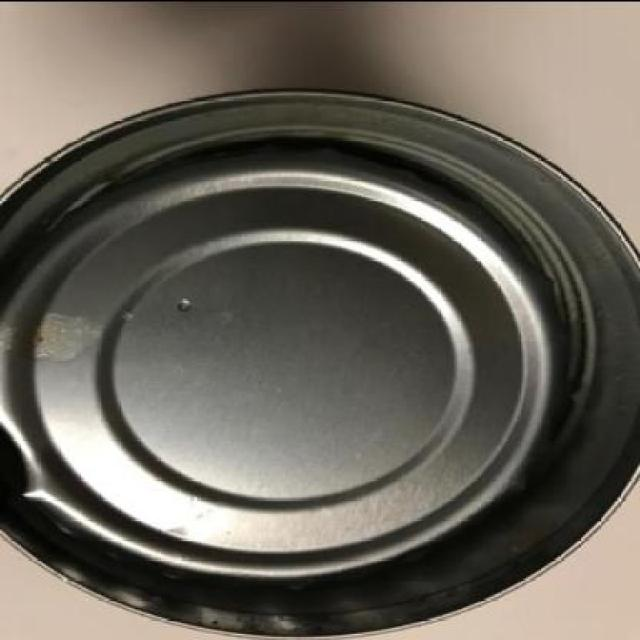METAL: (1, 87, 640, 638)
